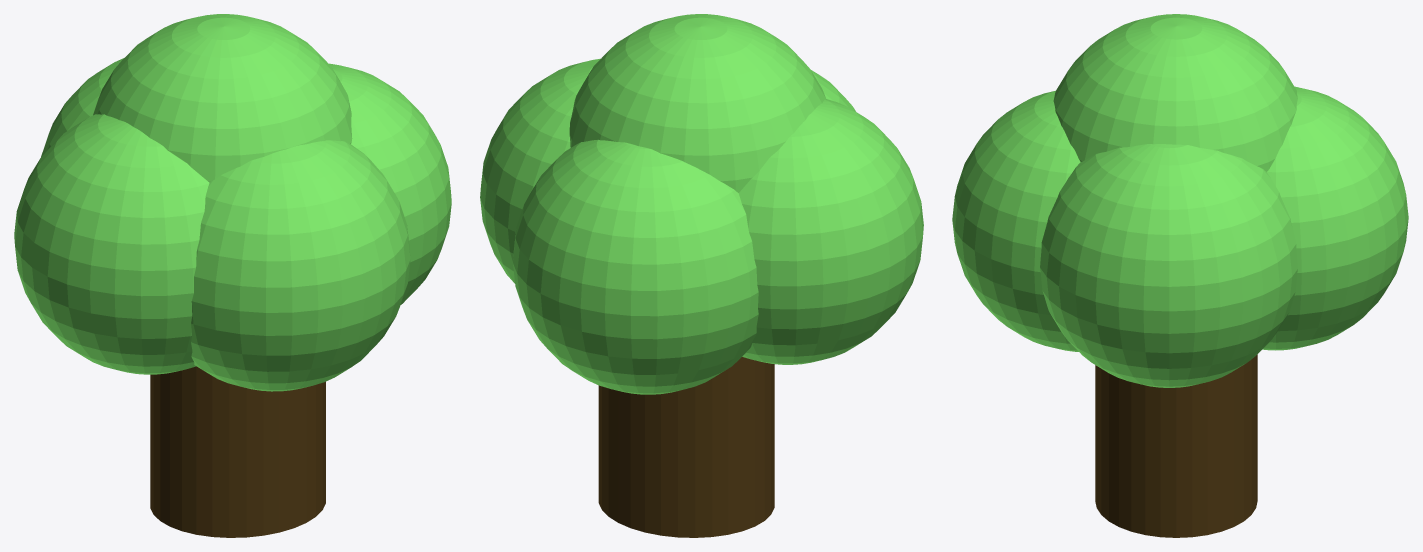
File: kouyouzyu.fbx
3 renders of one model, left to right at view 1: azimuth 30°, elevation 25°; view 2: azimuth 150°, elevation 25°; view 3: azimuth 270°, elevation 25°, orthographic. The views are drawn at different scales.
Visible parts, largest first — view 1: 立方体; view 2: 立方体; view 3: 立方体.
Boxes of the visible parts, left/top/right/bottom form: 立方体: left=14, top=14, right=451, bottom=537; 立方体: left=480, top=14, right=923, bottom=537; 立方体: left=952, top=14, right=1408, bottom=537.
Size of the model in its own units: 344 by 388 by 344.
